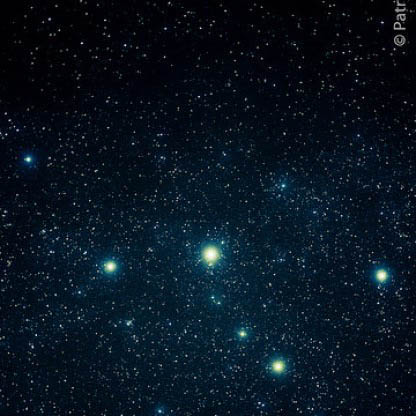Cassiopeia: (229, 324, 288, 377), (189, 229, 233, 277), (370, 260, 403, 301), (11, 145, 38, 173), (95, 253, 120, 280)
